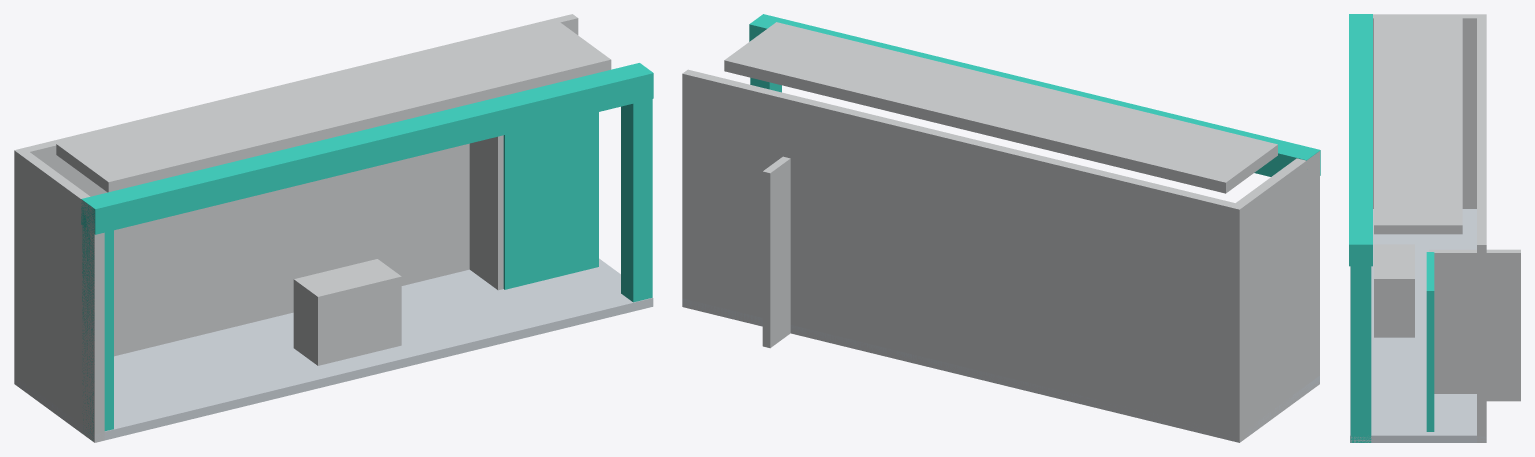
3 renders of one model, left to right at view 1: azimuth 30°, elevation 25°; view 2: azimuth 150°, elevation 25°; view 3: azimuth 270°, elevation 25°, orthographic. The views are drawn at different scales.
Parts seen in each view (by area): view 1: Exhibition Booth Concept; view 2: Exhibition Booth Concept; view 3: Exhibition Booth Concept.
Part boxes in pixels (x1,y1,x2,y2): Exhibition Booth Concept: (14,14,653,442); Exhibition Booth Concept: (682,14,1320,442); Exhibition Booth Concept: (1349,14,1520,442).
Size of the model in its own units: 8 by 3.34 by 2.52.
